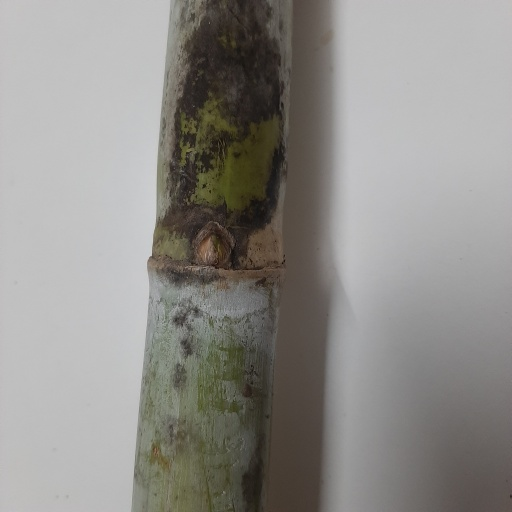Bud: (196, 225, 229, 267)
